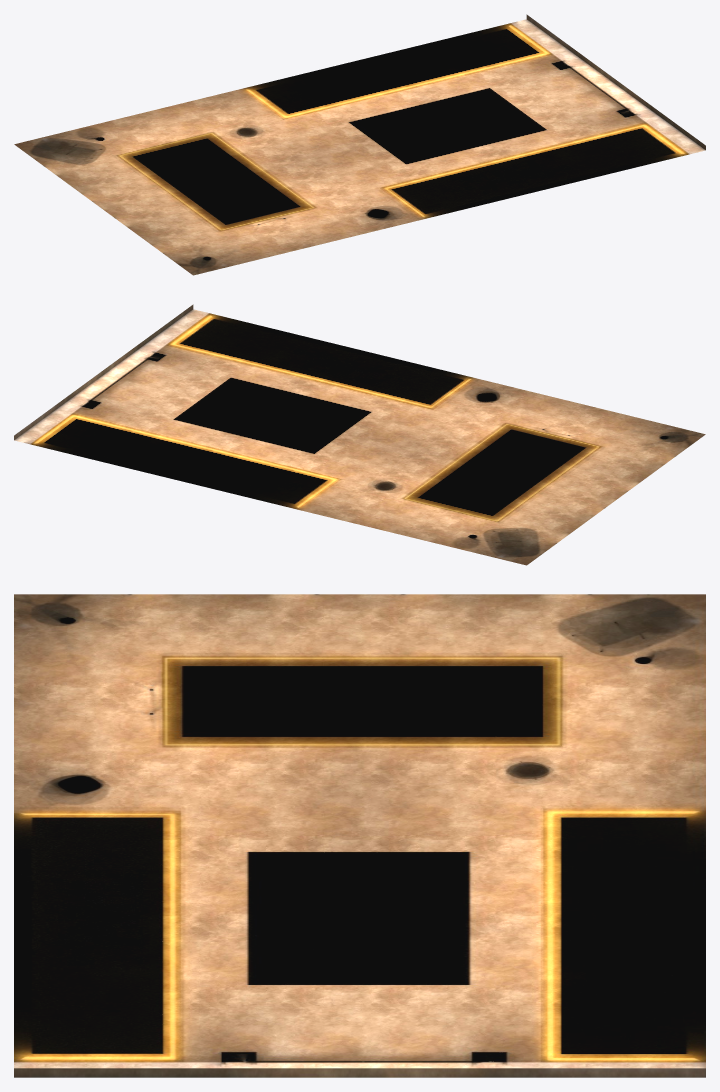
The model's file is Oyster_brown.glb.
3 renders of one model, top to bottom at view 1: azimuth 30°, elevation 25°; view 2: azimuth 150°, elevation 25°; view 3: azimuth 270°, elevation 25°, orthographic. The views are drawn at different scales.
Parts seen in each view (by area): view 1: Oyster_brown; view 2: Oyster_brown; view 3: Oyster_brown.
Part boxes in pixels (x1=…): Oyster_brown: x1=14, y1=14, x2=705, y2=275; Oyster_brown: x1=14, y1=304, x2=705, y2=565; Oyster_brown: x1=14, y1=594, x2=705, y2=1077.
Bounding box in the file's own units: 8.36 × 0.0748 × 5.06.
1 material, 1 textured.
